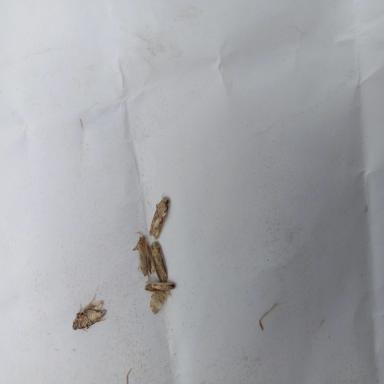pbw: (72, 293, 107, 331), (132, 231, 156, 277), (149, 192, 170, 239), (151, 241, 168, 282), (144, 280, 175, 292)
